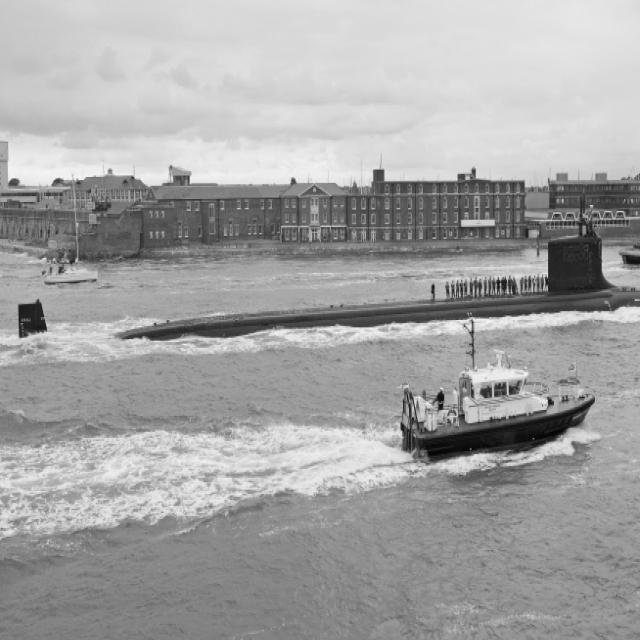submarine: (18, 213, 640, 359)
